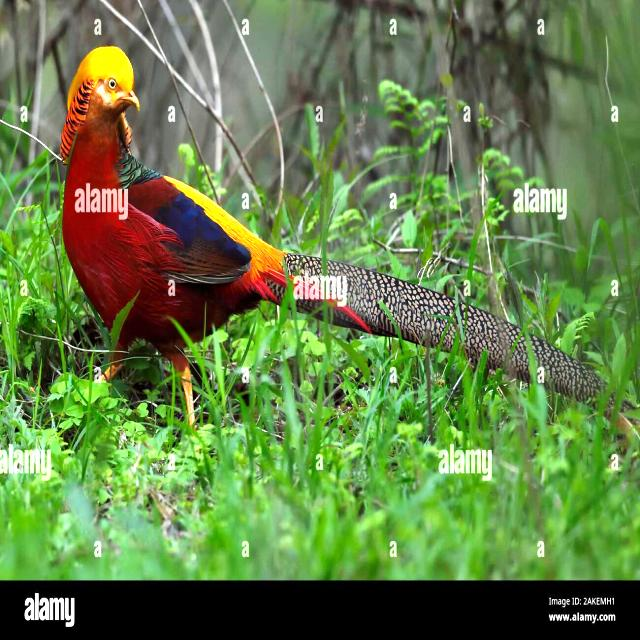Chrysolophus pictus feather: (285, 253, 531, 382), (530, 334, 604, 402)
